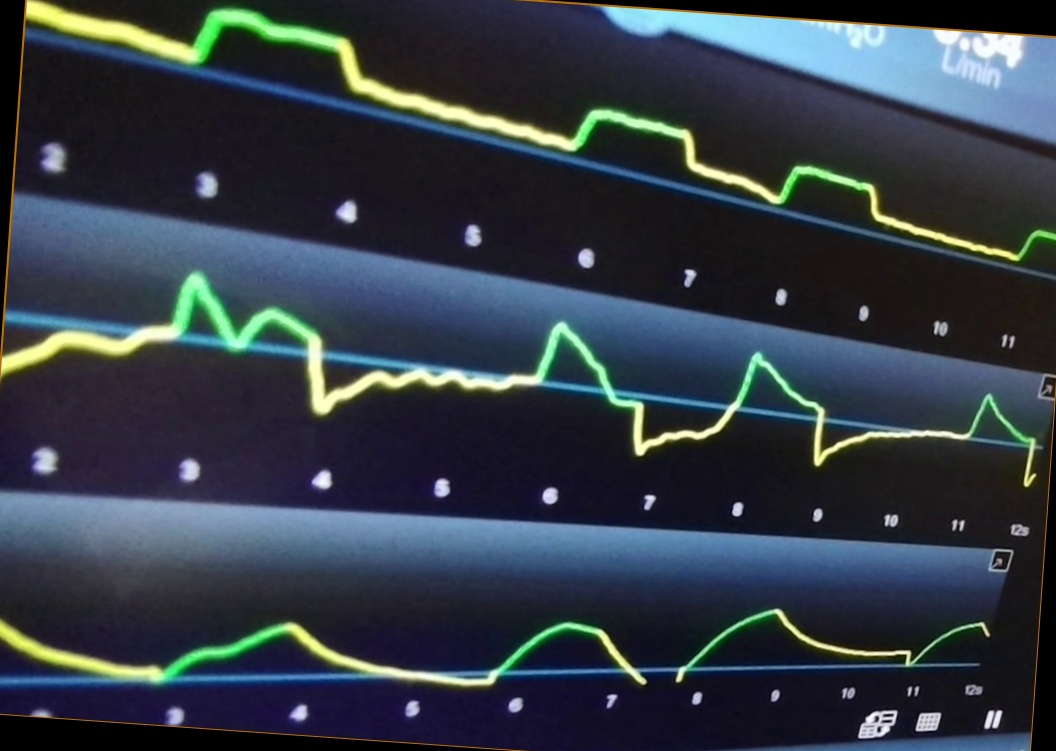Double_Triggering Flow: (8, 274, 1034, 486)
Double_Triggering Volume: (10, 584, 991, 685)
